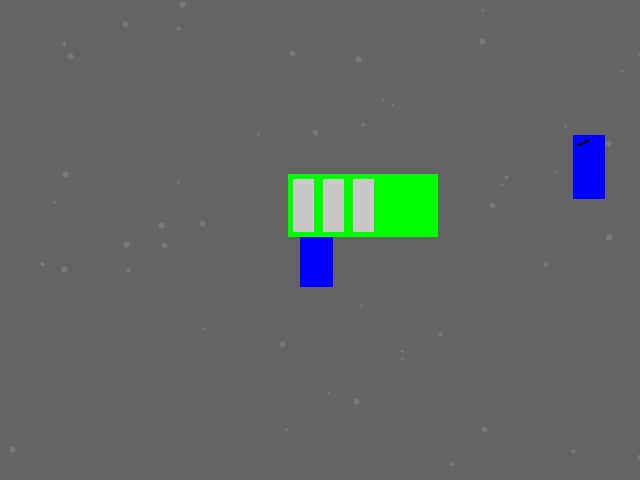bus: (288, 174, 437, 236)
motorcycle: (300, 221, 332, 286), (573, 135, 604, 198)
